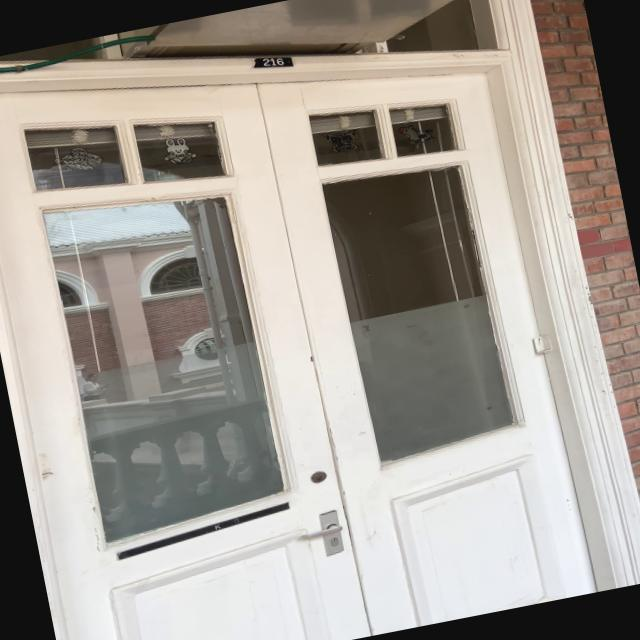room216: (242, 46, 298, 78)
